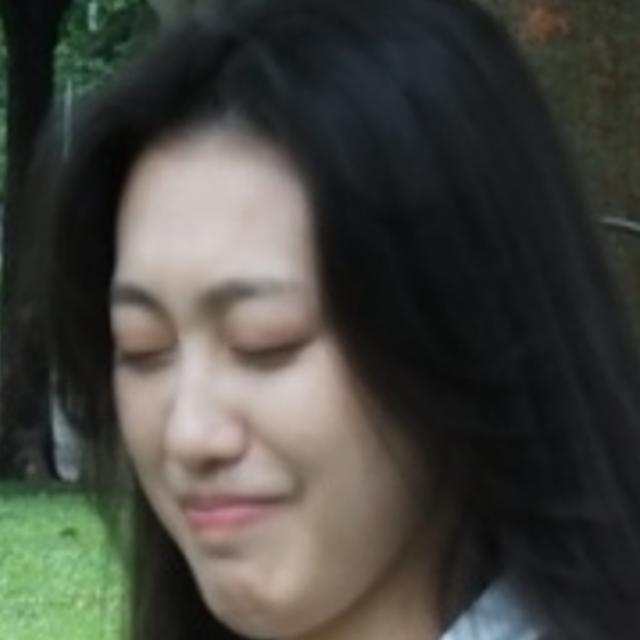close: (201, 266, 328, 379), (98, 269, 183, 399)
